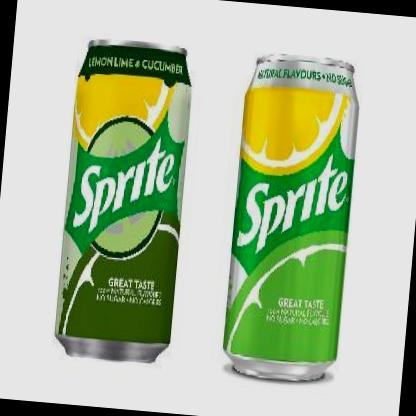alumunium_can: (51, 32, 198, 370), (219, 47, 364, 388)
